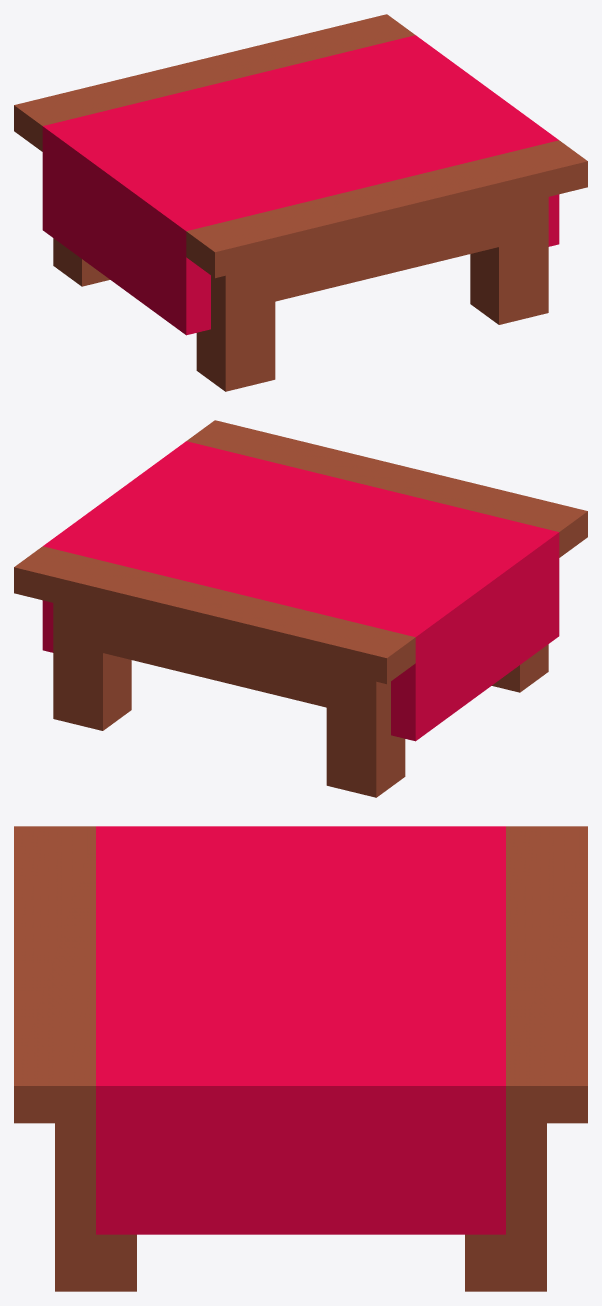
Rendered from small_table_a_red.obj.
3 renders of one model, top to bottom at view 1: azimuth 30°, elevation 25°; view 2: azimuth 150°, elevation 25°; view 3: azimuth 270°, elevation 25°, orthographic. The views are drawn at different scales.
Size of the model in its own units: 1.5 by 0.6 by 1.4.
1 material, 1 textured.
